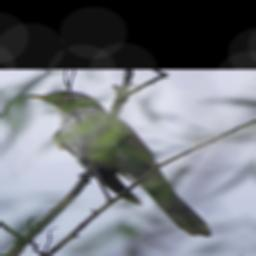Cuckoo: (10, 88, 239, 239)
